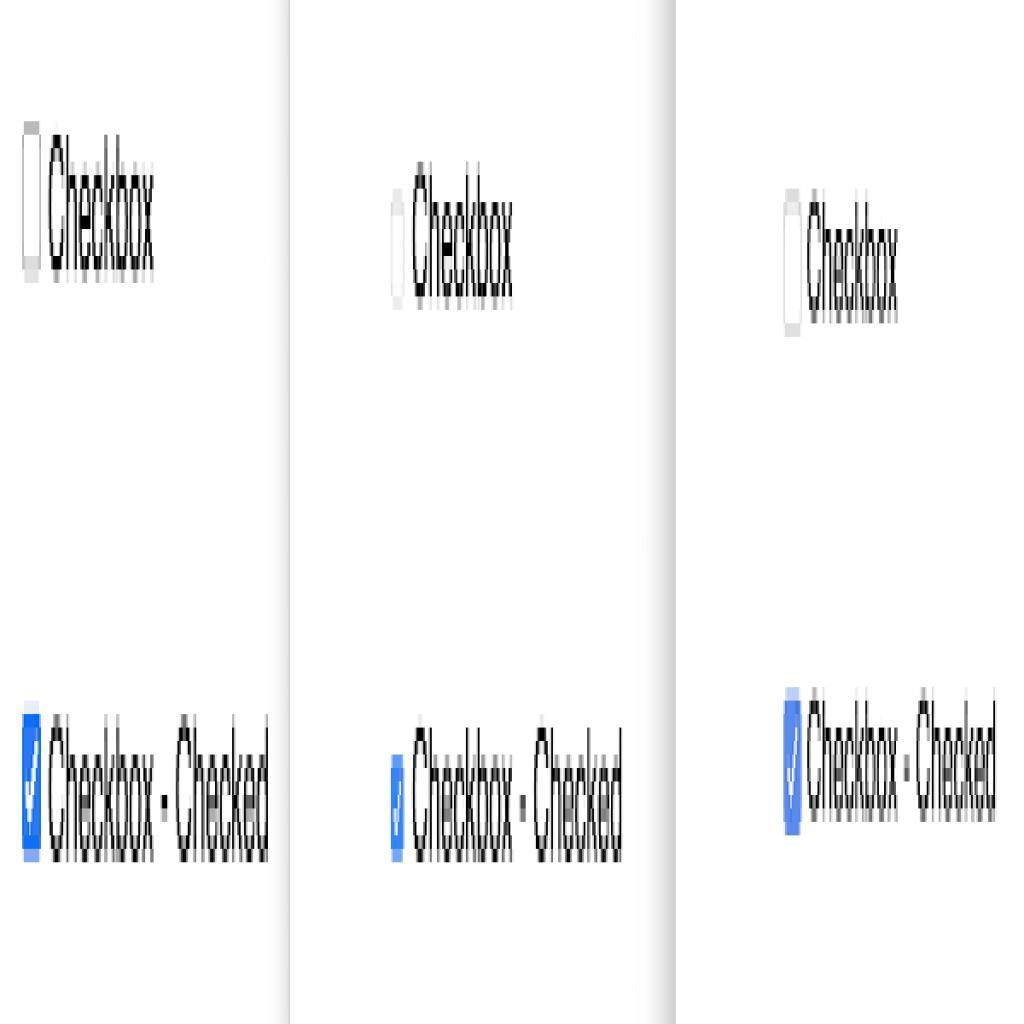checkbox: (780, 690, 810, 844), (18, 707, 46, 867), (18, 125, 43, 285), (779, 191, 805, 342), (387, 187, 408, 313), (388, 752, 407, 875)
